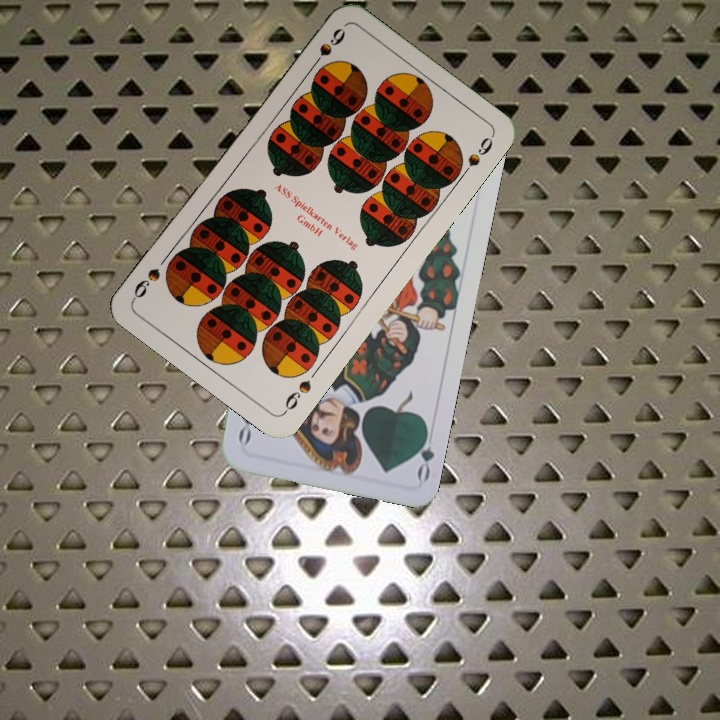GO: (409, 423, 437, 483)
S9: (305, 24, 348, 73), (279, 375, 314, 416)
